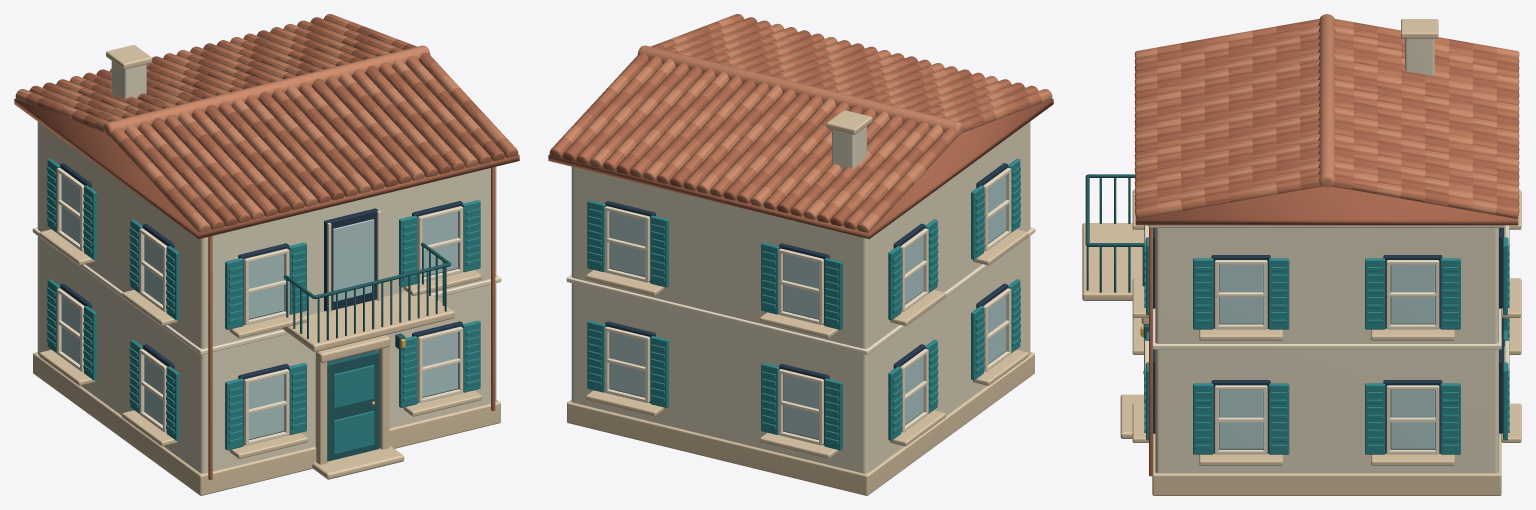
Rendered from KKTC_House_1.fbx.
The picture shows the model from 3 angles, left to right: view 1: azimuth 30°, elevation 25°; view 2: azimuth 150°, elevation 25°; view 3: azimuth 270°, elevation 25°; orthographic projection. The views are drawn at different scales.
Visible parts, largest first — view 1: HouseVolume_YY_limePlaster, HouseVolume_YY_roofClay, HouseVolume_YY_stone, HouseVolume_YY_roofClayDark, HouseVolume_YY_teal, HouseVolume_YY_roofClayLight, HouseVolume_YY_glass, HouseVolume_YY_cream, HouseVolume_YY_tealDark, HouseVolume_YY_navy, HouseVolume_YY_terracotta; view 2: HouseVolume_YY_limePlaster, HouseVolume_YY_roofClay, HouseVolume_YY_roofClayDark, HouseVolume_YY_roofClayLight, HouseVolume_YY_stone, HouseVolume_YY_teal, HouseVolume_YY_cream, HouseVolume_YY_glass, HouseVolume_YY_navy; view 3: HouseVolume_YY_limePlaster, HouseVolume_YY_roofClay, HouseVolume_YY_roofClayDark, HouseVolume_YY_stone, HouseVolume_YY_roofClayLight, HouseVolume_YY_teal, HouseVolume_YY_glass, HouseVolume_YY_cream, HouseVolume_YY_navy, HouseVolume_YY_tealDark, HouseVolume_YY_terracotta.
Boxes of the visible parts, x1,y1,x2,y2 form: HouseVolume_YY_limePlaster: [37, 61, 496, 473]; HouseVolume_YY_roofClay: [26, 14, 518, 229]; HouseVolume_YY_stone: [33, 45, 500, 495]; HouseVolume_YY_roofClayDark: [14, 17, 519, 238]; HouseVolume_YY_teal: [47, 158, 480, 454]; HouseVolume_YY_roofClayLight: [15, 17, 506, 232]; HouseVolume_YY_glass: [61, 175, 457, 439]; HouseVolume_YY_cream: [32, 168, 501, 445]; HouseVolume_YY_tealDark: [283, 242, 451, 461]; HouseVolume_YY_navy: [60, 163, 462, 444]; HouseVolume_YY_terracotta: [208, 167, 495, 480]; HouseVolume_YY_limePlaster: [571, 122, 1030, 473]; HouseVolume_YY_roofClay: [549, 14, 1041, 229]; HouseVolume_YY_roofClayDark: [548, 17, 1053, 238]; HouseVolume_YY_roofClayLight: [561, 17, 1052, 232]; HouseVolume_YY_stone: [567, 110, 1034, 495]; HouseVolume_YY_teal: [587, 158, 1020, 450]; HouseVolume_YY_cream: [566, 168, 1035, 445]; HouseVolume_YY_glass: [610, 175, 1006, 439]; HouseVolume_YY_navy: [605, 163, 1007, 444]; HouseVolume_YY_limePlaster: [1155, 38, 1498, 473]; HouseVolume_YY_roofClay: [1134, 18, 1519, 218]; HouseVolume_YY_roofClayDark: [1134, 22, 1519, 225]; HouseVolume_YY_stone: [1082, 19, 1521, 495]; HouseVolume_YY_roofClayLight: [1134, 14, 1519, 214]; HouseVolume_YY_teal: [1144, 225, 1509, 454]; HouseVolume_YY_glass: [1219, 228, 1504, 448]; HouseVolume_YY_cream: [1144, 225, 1509, 454]; HouseVolume_YY_navy: [1153, 228, 1503, 453]; HouseVolume_YY_tealDark: [1085, 174, 1148, 338]; HouseVolume_YY_terracotta: [1149, 228, 1152, 476].
Bounding box in the file's own units: 698 × 669 × 767.
